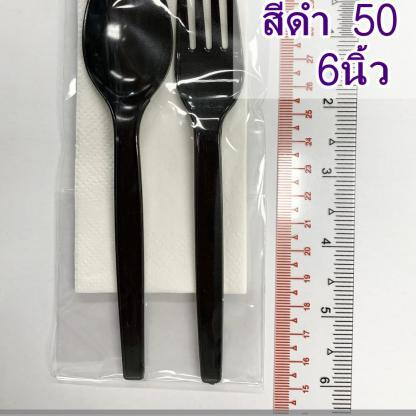Others: (84, 0, 174, 386), (165, 0, 243, 388)
